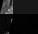axe: (13, 0, 38, 14)
slime: (0, 0, 13, 14)
